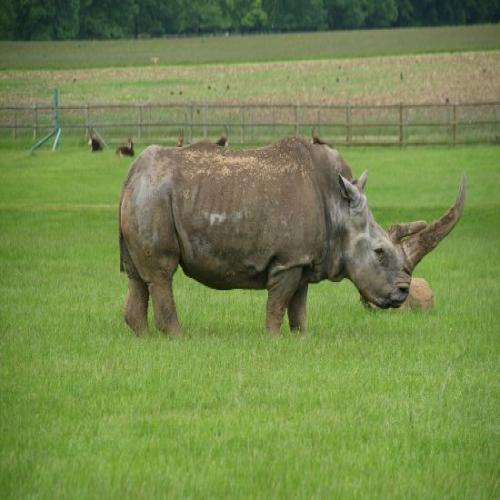rhino-endangered: (114, 122, 468, 346)
